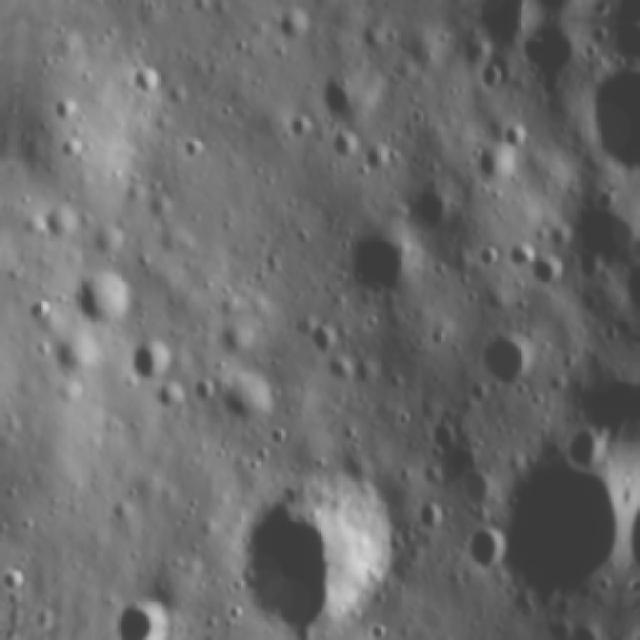crater: (478, 431, 632, 629), (230, 469, 405, 640), (574, 53, 640, 176), (340, 222, 425, 306), (568, 356, 638, 456), (472, 316, 539, 395), (518, 15, 584, 93), (66, 265, 140, 330), (214, 366, 284, 428), (402, 174, 467, 235), (315, 69, 374, 125), (559, 418, 615, 474), (459, 519, 512, 578), (130, 332, 182, 386), (472, 11, 536, 54), (452, 468, 505, 518), (470, 144, 521, 190), (113, 589, 170, 629), (360, 137, 402, 188), (322, 347, 366, 395), (526, 250, 569, 292), (422, 415, 462, 460), (612, 257, 640, 320), (273, 6, 315, 48), (124, 61, 165, 101), (306, 311, 343, 354), (327, 125, 364, 163), (414, 501, 448, 542), (188, 372, 222, 412), (0, 558, 31, 596), (499, 121, 530, 152), (618, 472, 630, 520), (446, 638, 486, 640)
